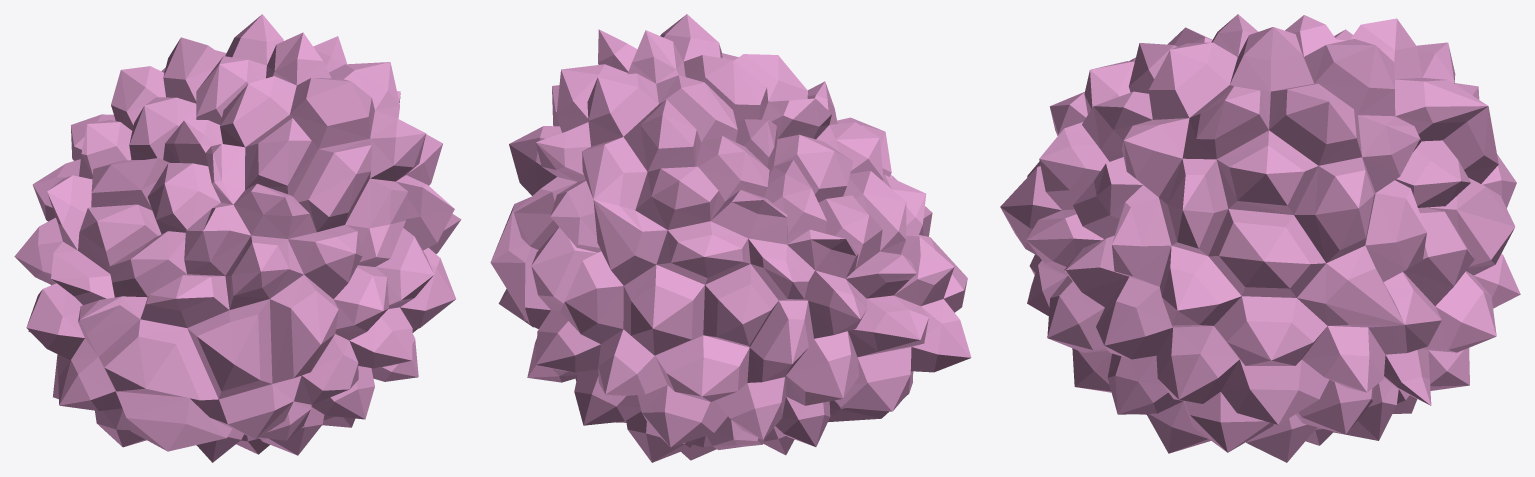
Rendered from _crystal_5.fbx.
3 renders of one model, left to right at view 1: azimuth 30°, elevation 25°; view 2: azimuth 150°, elevation 25°; view 3: azimuth 270°, elevation 25°, orthographic. The views are drawn at different scales.
Parts seen in each view (by area): view 1: crystal_5; view 2: crystal_5; view 3: crystal_5.
Part boxes in pixels (x1,y1,x2,y2): crystal_5: (14,14,461,462); crystal_5: (490,14,971,462); crystal_5: (1000,14,1520,462).
Size of the model in its own units: 136 by 125 by 129.
